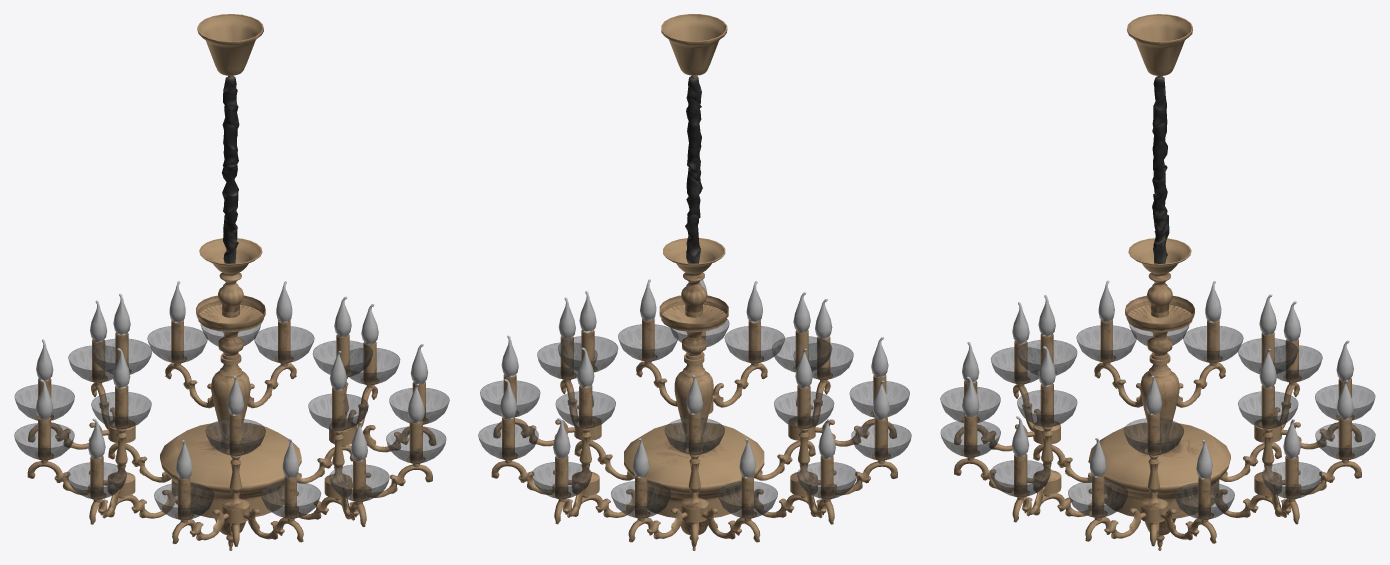
File: Chandelier_03.glb
3 renders of one model, left to right at view 1: azimuth 30°, elevation 25°; view 2: azimuth 150°, elevation 25°; view 3: azimuth 270°, elevation 25°, orthographic.
Parts seen in each view (by area): view 1: Chandelier_03; view 2: Chandelier_03; view 3: Chandelier_03.
Boxes of the visible parts, left/top/right/bottom form: Chandelier_03: left=14, top=14, right=449, bottom=550; Chandelier_03: left=478, top=14, right=911, bottom=550; Chandelier_03: left=940, top=14, right=1375, bottom=550.
Size of the model in its own units: 0.7804 by 1.04 by 0.7855.
Materials: 2 (2 with a texture image).
